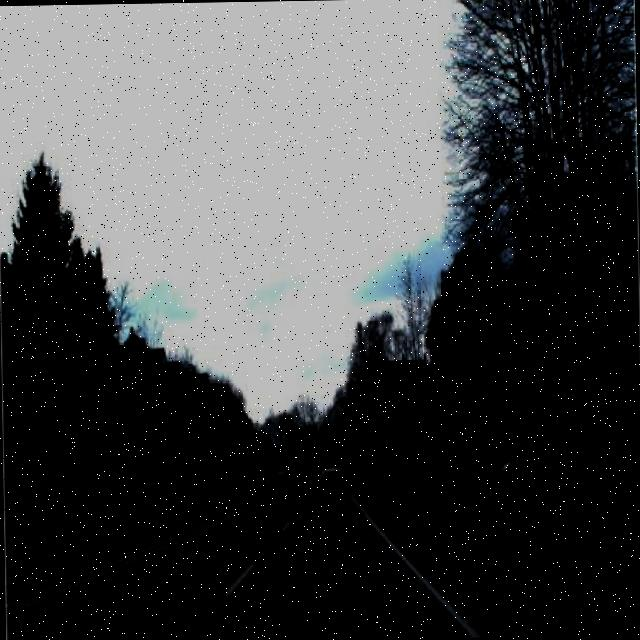Ograniczenie predkosci do 70: (363, 429, 378, 449)
